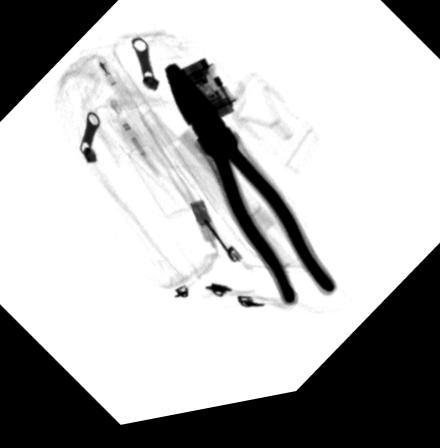Pliers: (162, 67, 335, 319)
